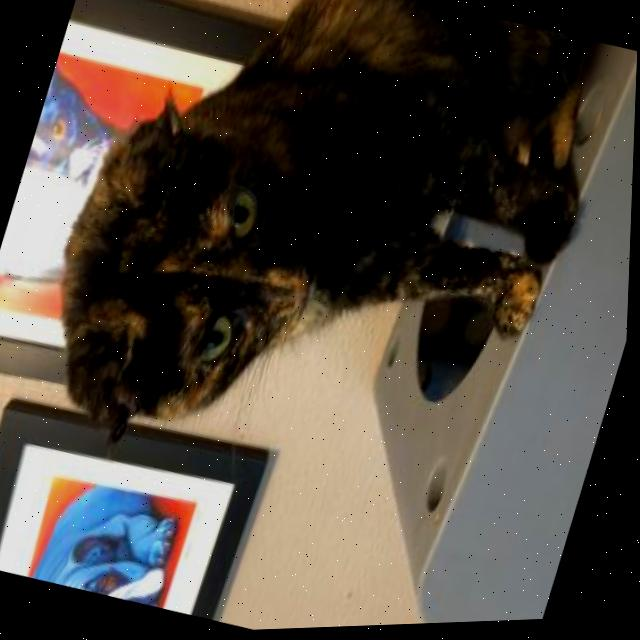Scottish Fold: (3, 0, 636, 553)
